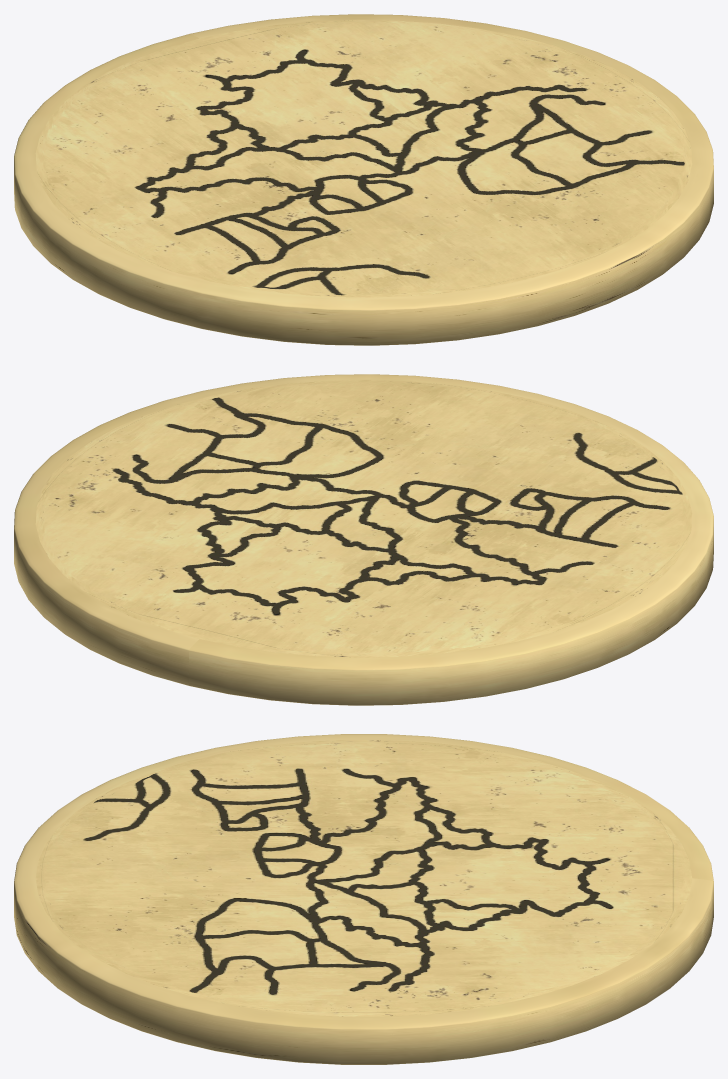
Rendered from Forest Token.fbx.
3 renders of one model, top to bottom at view 1: azimuth 30°, elevation 25°; view 2: azimuth 150°, elevation 25°; view 3: azimuth 270°, elevation 25°, orthographic.
Parts seen in each view (by area): view 1: Cylinder; view 2: Cylinder; view 3: Cylinder.
Part boxes in pixels (<box>): Cylinder: <box>14,14,713,345</box>; Cylinder: <box>14,374,713,705</box>; Cylinder: <box>14,734,713,1064</box>.
Size of the model in its own units: 200 by 14.64 by 200.
